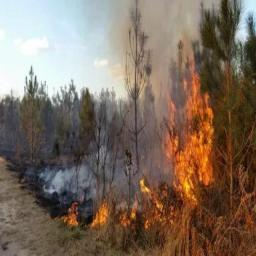Low smoke: (103, 0, 229, 187)
Medium fire: (47, 28, 253, 242)
